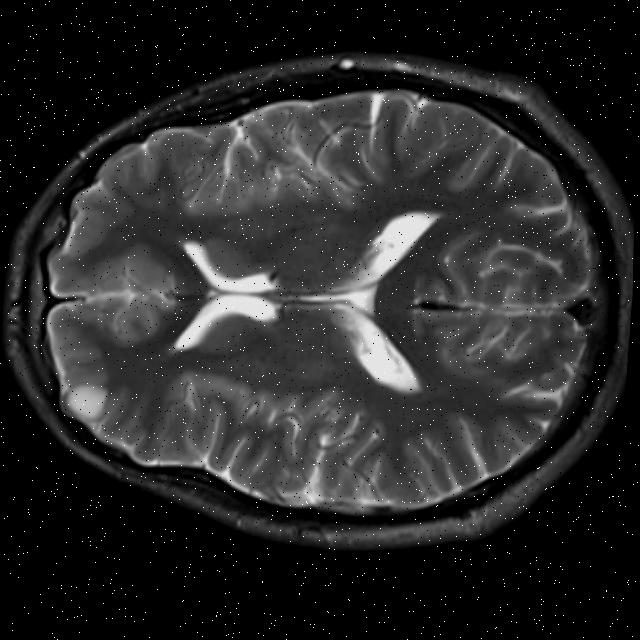NoTumor: (0, 15, 639, 577)
